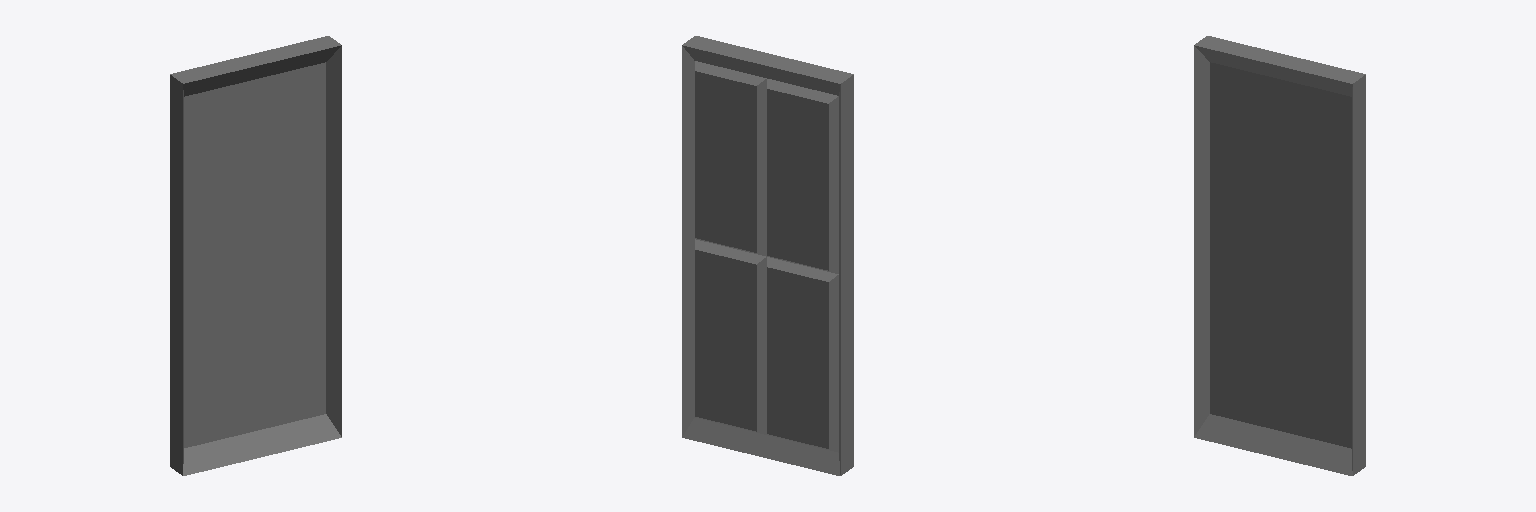
Rendered from door.obj.
3 renders of one model, left to right at view 1: azimuth 30°, elevation 25°; view 2: azimuth 150°, elevation 25°; view 3: azimuth 330°, elevation 25°, orthographic.
Parts seen in each view (by area): view 1: door:door; view 2: door:door; view 3: door:door.
Part boxes in pixels (x1,y1,x2,y2): door:door: (170, 36, 341, 475); door:door: (682, 36, 853, 475); door:door: (1194, 36, 1365, 475).
Bounding box in the file's own units: 2.91 × 6.86 × 0.4265.